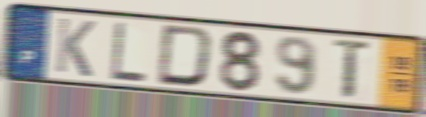8: (218, 28, 264, 94)
9: (274, 34, 318, 97)
D: (154, 23, 216, 90)
K: (52, 15, 98, 80)
L: (108, 19, 148, 85)
T: (331, 36, 375, 102)
